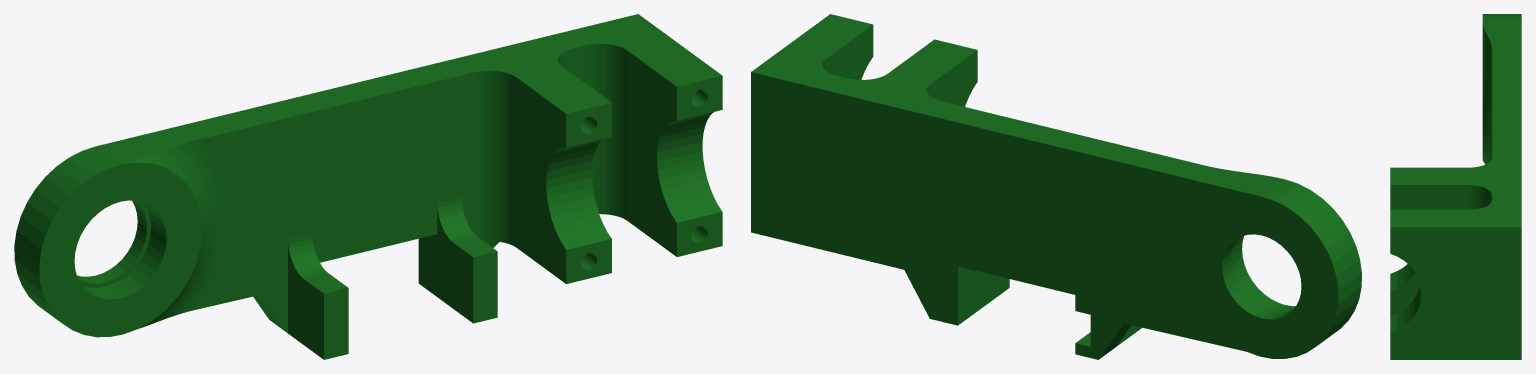
Rendered from arm_max.dae.
3 views of the same model, side by side, from view 1: azimuth 30°, elevation 25°; view 2: azimuth 150°, elevation 25°; view 3: azimuth 270°, elevation 25° (orthographic). The views are drawn at different scales.
Visible parts, largest first — view 1: Board; view 2: Board; view 3: Board.
Boxes of the visible parts, box(x1,y1,x2,y2) form: Board: box(14, 14, 722, 359); Board: box(751, 14, 1361, 359); Board: box(1390, 14, 1521, 359).
Bounding box in the file's own units: 0.115 × 0.0269 × 0.038.
